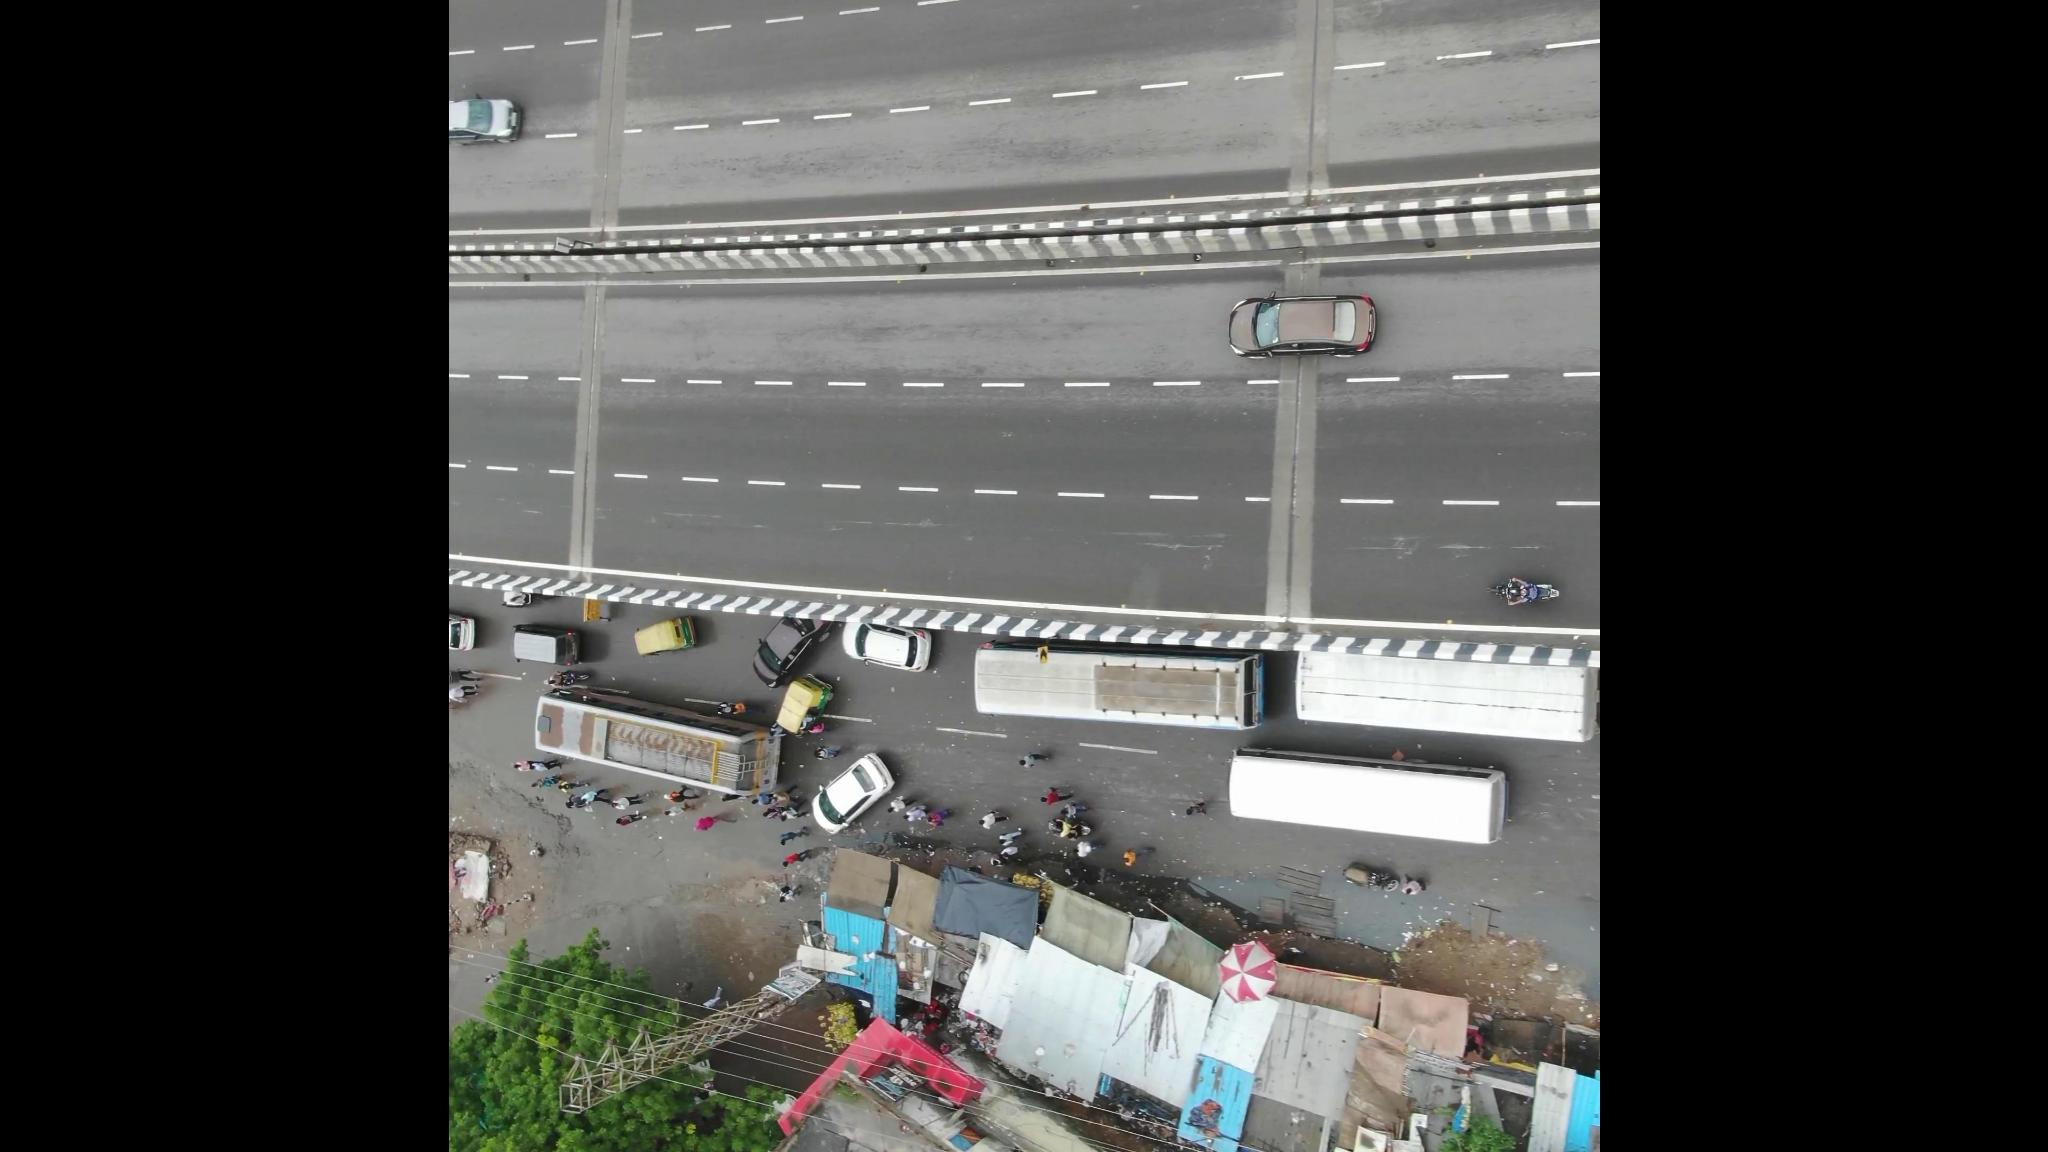Ravelling: (1333, 518, 1487, 570), (1092, 516, 1234, 570), (625, 494, 760, 544), (833, 502, 928, 547)
